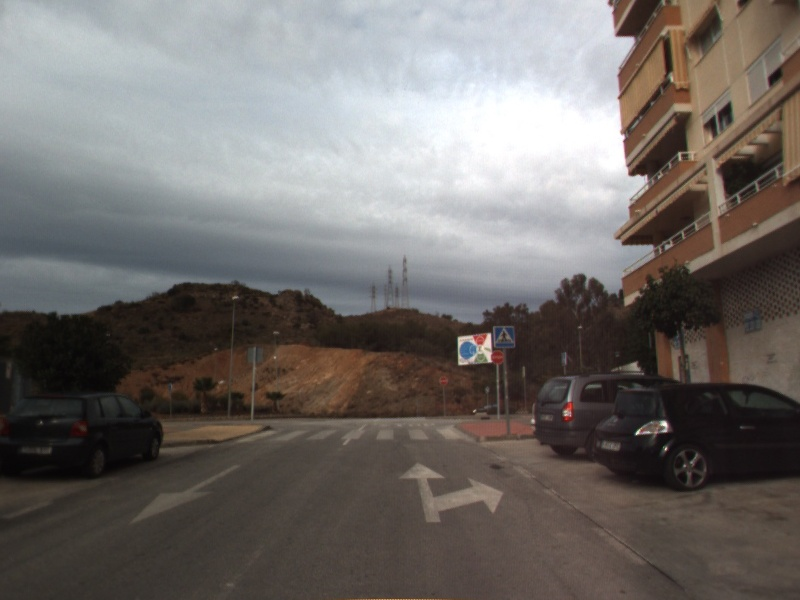STRAIGHT_RIGHT: (396, 460, 506, 525)
